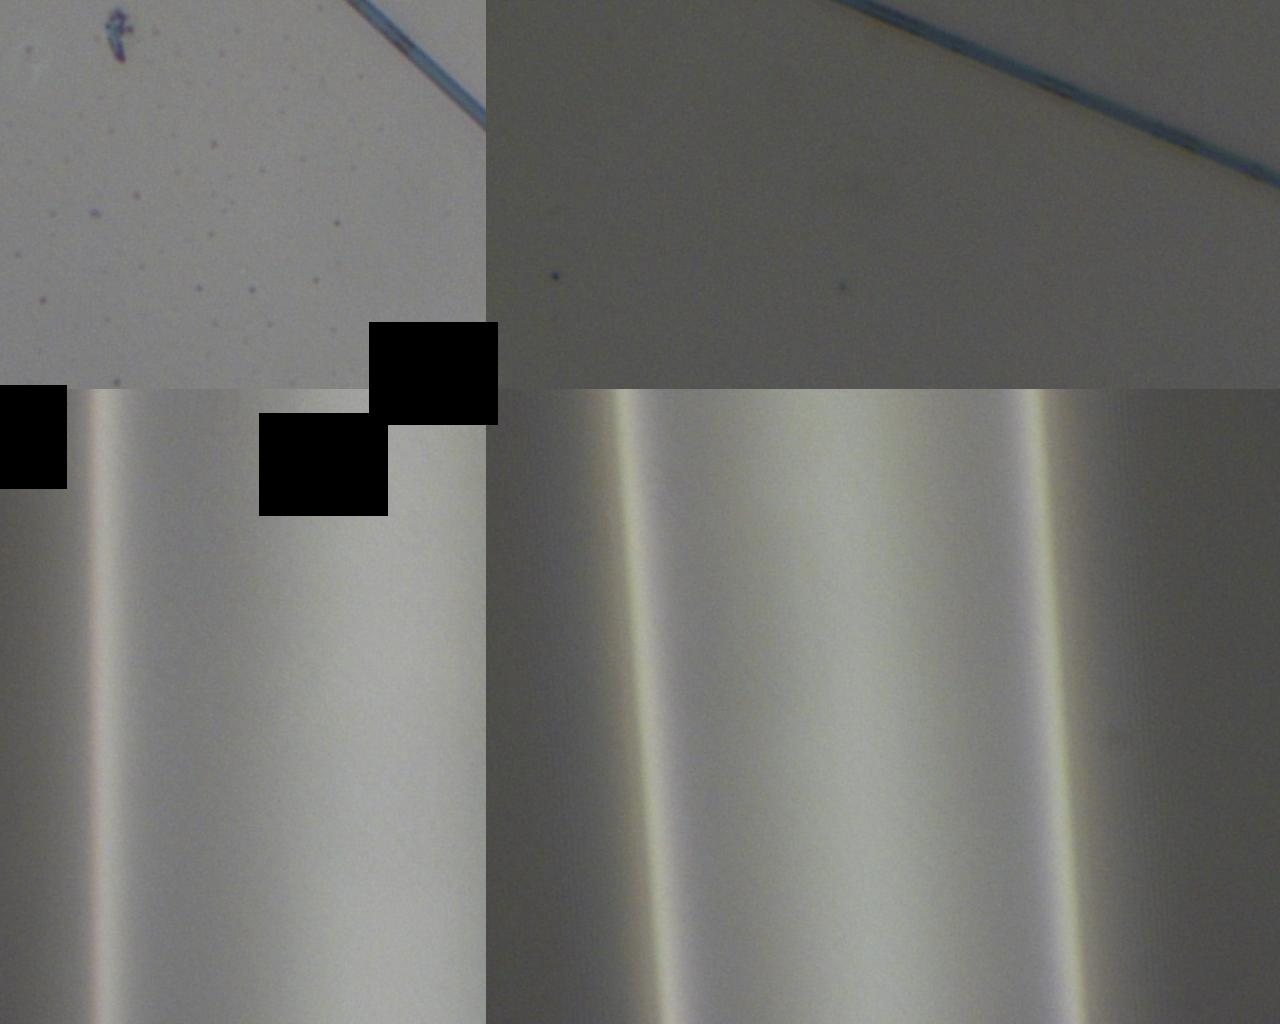fiber: (613, 389, 1091, 1024), (90, 389, 486, 1024), (820, 0, 1280, 193)
